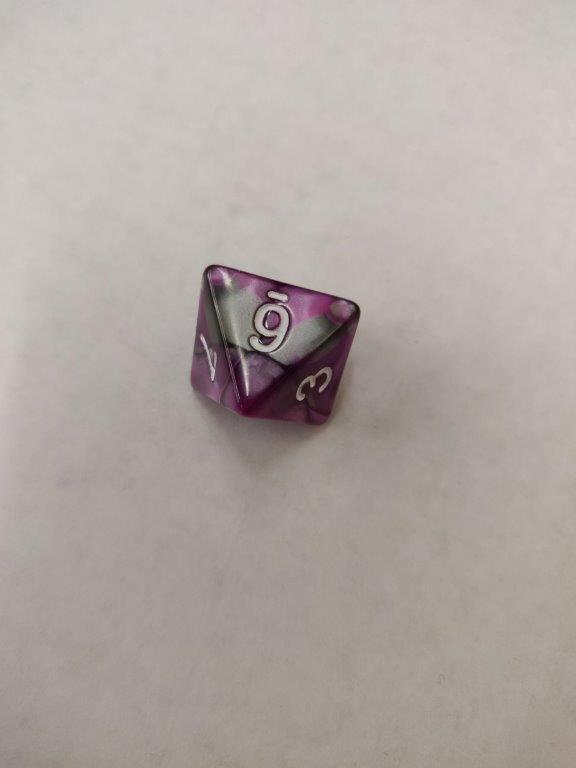d8-6: (191, 262, 361, 422)
